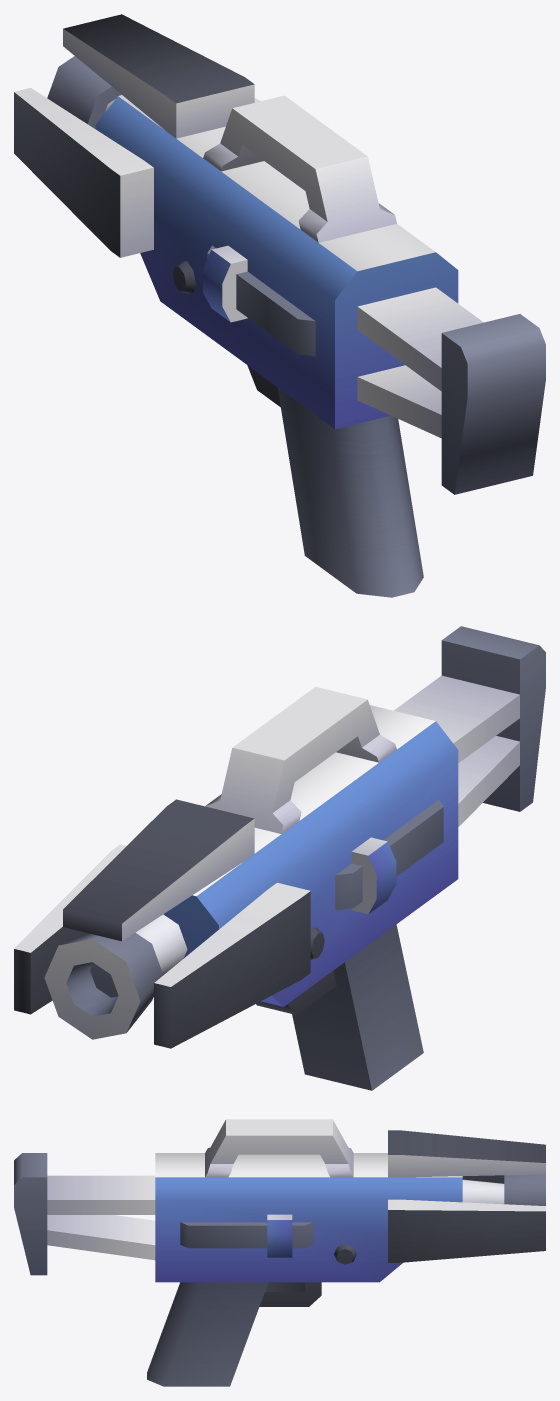
File: blaster-n.glb
3 views of the same model, one above another, from view 1: azimuth 30°, elevation 25°; view 2: azimuth 150°, elevation 25°; view 3: azimuth 270°, elevation 25° (orthographic). The views are drawn at different scales.
Visible parts, largest first — view 1: blaster-n; view 2: blaster-n; view 3: blaster-n.
Boxes of the visible parts, x1,y1,x2,y2 form: blaster-n: [14, 14, 545, 597]; blaster-n: [14, 626, 545, 1090]; blaster-n: [14, 1119, 545, 1386].
Size of the model in its own units: 0.17 by 0.33 by 0.6401.
1 material, 1 textured.
